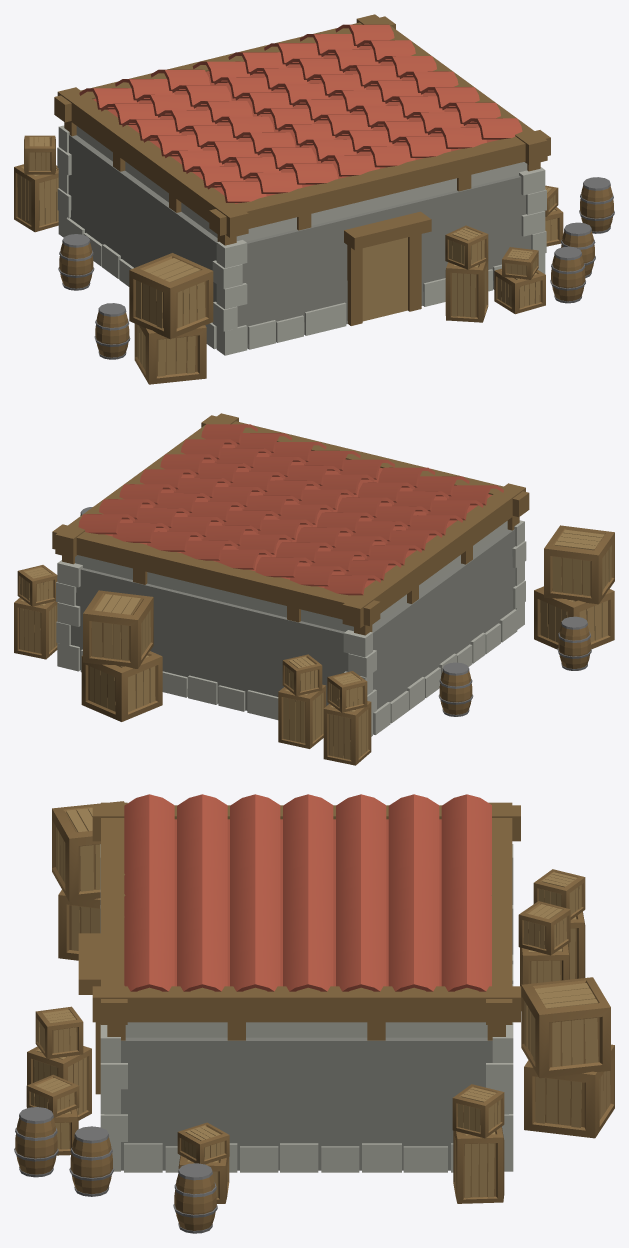
The model's file is Storage shed-fkTsDdpQAA.glb.
The picture shows the model from 3 angles, top to bottom: view 1: azimuth 30°, elevation 25°; view 2: azimuth 150°, elevation 25°; view 3: azimuth 270°, elevation 25°; orthographic projection. The views are drawn at different scales.
Parts seen in each view (by area): view 1: Storage_SecondAge_Level1; view 2: Storage_SecondAge_Level1; view 3: Storage_SecondAge_Level1.
Boxes of the visible parts, <box> form: Storage_SecondAge_Level1: <box>14,14,614,384</box>; Storage_SecondAge_Level1: <box>14,413,614,765</box>; Storage_SecondAge_Level1: <box>14,794,614,1233</box>.
Bounding box in the file's own units: 1.72 × 0.5016 × 1.38.
